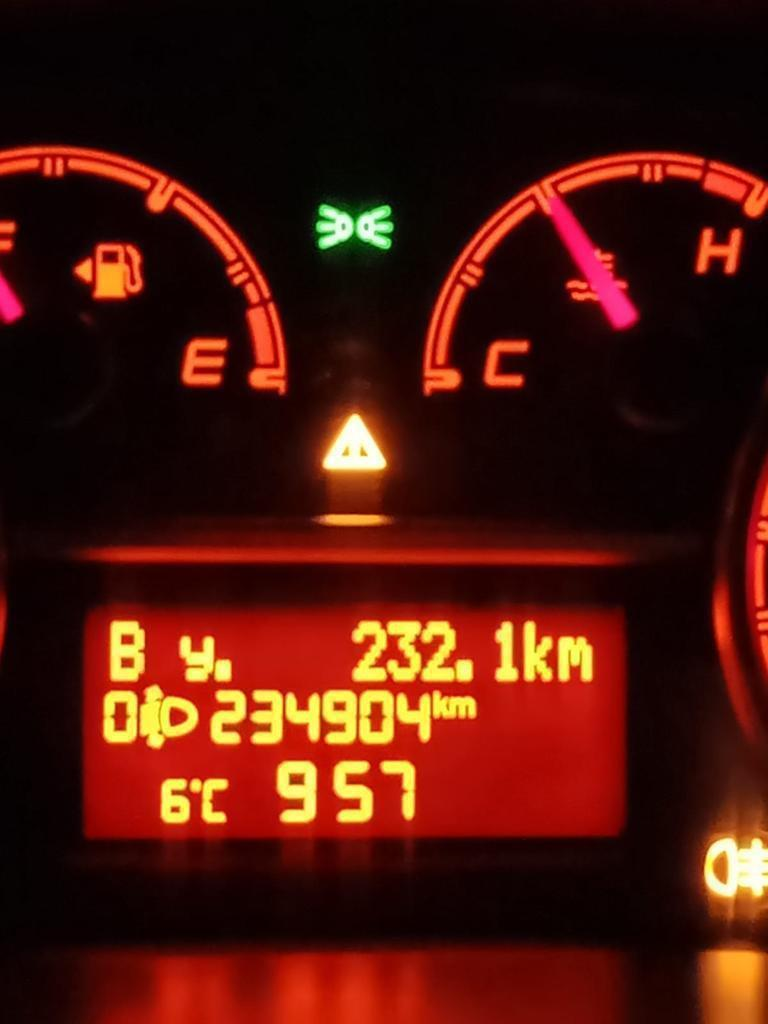,: (213, 653, 235, 685), (453, 654, 476, 684)
0: (359, 687, 393, 746), (103, 688, 138, 743)
1: (491, 614, 518, 686)
2: (351, 616, 385, 684), (210, 687, 245, 750), (424, 616, 455, 683)
3: (386, 616, 419, 683), (250, 684, 283, 745)
4: (284, 688, 320, 743), (395, 689, 431, 744)
5: (331, 758, 374, 824)
6: (160, 774, 190, 826)
7: (380, 755, 417, 825)
9: (276, 758, 318, 824), (324, 687, 357, 747)
X: (105, 616, 150, 683), (523, 617, 553, 682), (178, 632, 214, 682), (558, 633, 593, 682), (202, 773, 234, 824), (450, 693, 476, 721), (431, 687, 450, 721)
odometer: (73, 586, 639, 857)
